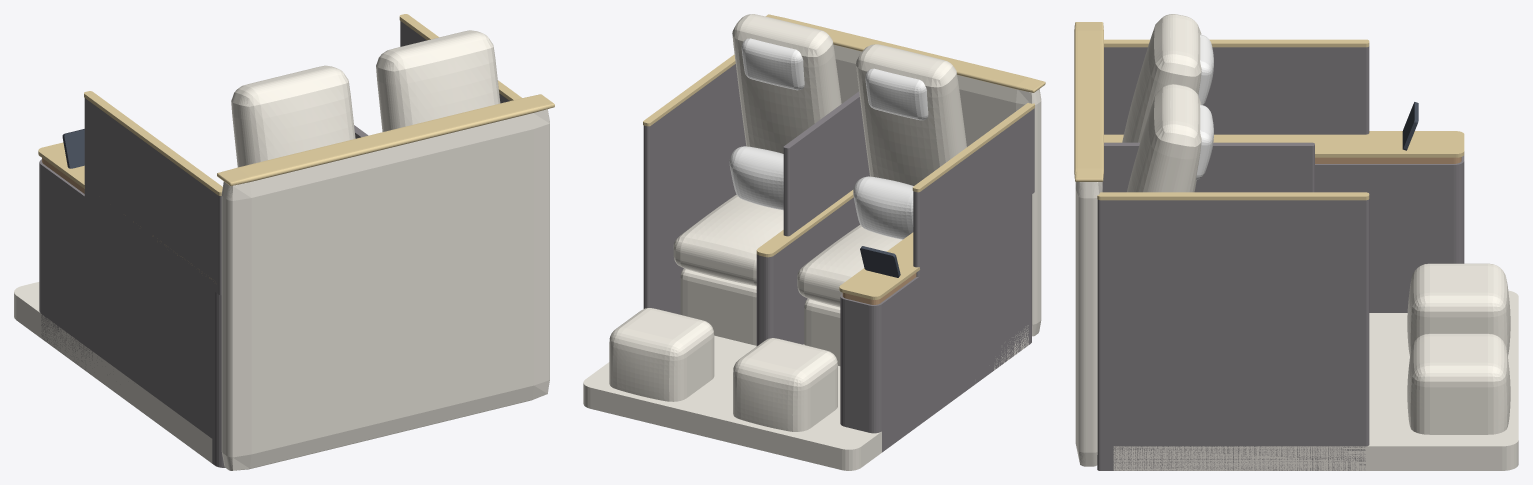
Rendered from siege_business_gauche.glb.
3 renders of one model, left to right at view 1: azimuth 30°, elevation 25°; view 2: azimuth 150°, elevation 25°; view 3: azimuth 270°, elevation 25°, orthographic. The views are drawn at different scales.
Parts seen in each view (by area): view 1: SiegeBusiness_CoqueCreme, SiegeBusiness_CoqueSombre, SiegeBusiness_CuirCreme, SiegeBusiness_Dore, SiegeBusiness_Ecran; view 2: SiegeBusiness_CoqueSombre, SiegeBusiness_CuirCreme, SiegeBusiness_CoqueCreme, SiegeBusiness_Blanc, SiegeBusiness_Dore, SiegeBusiness_Ecran; view 3: SiegeBusiness_CoqueSombre, SiegeBusiness_CuirCreme, SiegeBusiness_CoqueCreme, SiegeBusiness_Dore, SiegeBusiness_Blanc, SiegeBusiness_Bois, SiegeBusiness_Ecran.
Boxes of the visible parts, bbox=[...] form: SiegeBusiness_CoqueCreme: bbox=[14, 109, 549, 470]; SiegeBusiness_CoqueSombre: bbox=[39, 21, 509, 467]; SiegeBusiness_CuirCreme: bbox=[231, 30, 500, 167]; SiegeBusiness_Dore: bbox=[38, 14, 554, 281]; SiegeBusiness_Ecran: bbox=[62, 129, 84, 168]; SiegeBusiness_CoqueSombre: bbox=[643, 64, 1034, 452]; SiegeBusiness_CuirCreme: bbox=[609, 14, 966, 431]; SiegeBusiness_CoqueCreme: bbox=[583, 44, 1041, 470]; SiegeBusiness_Blanc: bbox=[729, 38, 928, 239]; SiegeBusiness_Dore: bbox=[643, 14, 1045, 299]; SiegeBusiness_Ecran: bbox=[860, 246, 900, 277]; SiegeBusiness_CoqueSombre: bbox=[1097, 46, 1464, 470]; SiegeBusiness_CuirCreme: bbox=[1122, 14, 1510, 434]; SiegeBusiness_CoqueCreme: bbox=[1075, 182, 1518, 470]; SiegeBusiness_Dore: bbox=[1074, 22, 1464, 200]; SiegeBusiness_Blanc: bbox=[1196, 34, 1213, 180]; SiegeBusiness_Bois: bbox=[1315, 157, 1461, 163]; SiegeBusiness_Ecran: bbox=[1402, 102, 1418, 150].
Bounding box in the file's own units: 1.37 × 1.36 × 1.63.
